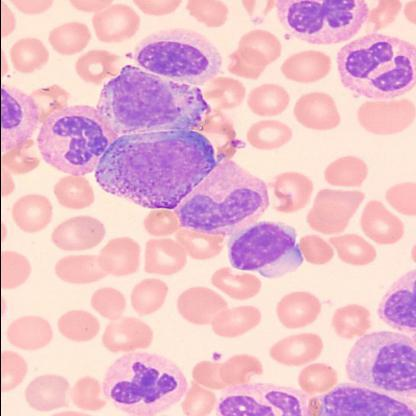Segmented neutrophil: (91, 128, 216, 210)
